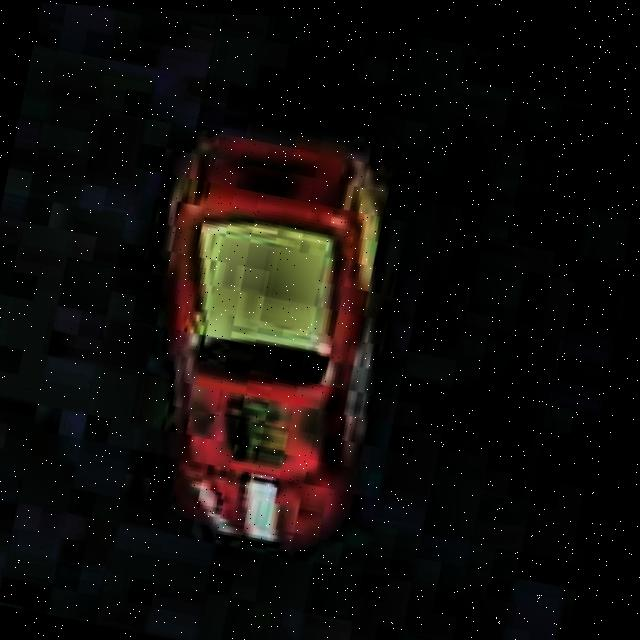car: (92, 100, 445, 587)
